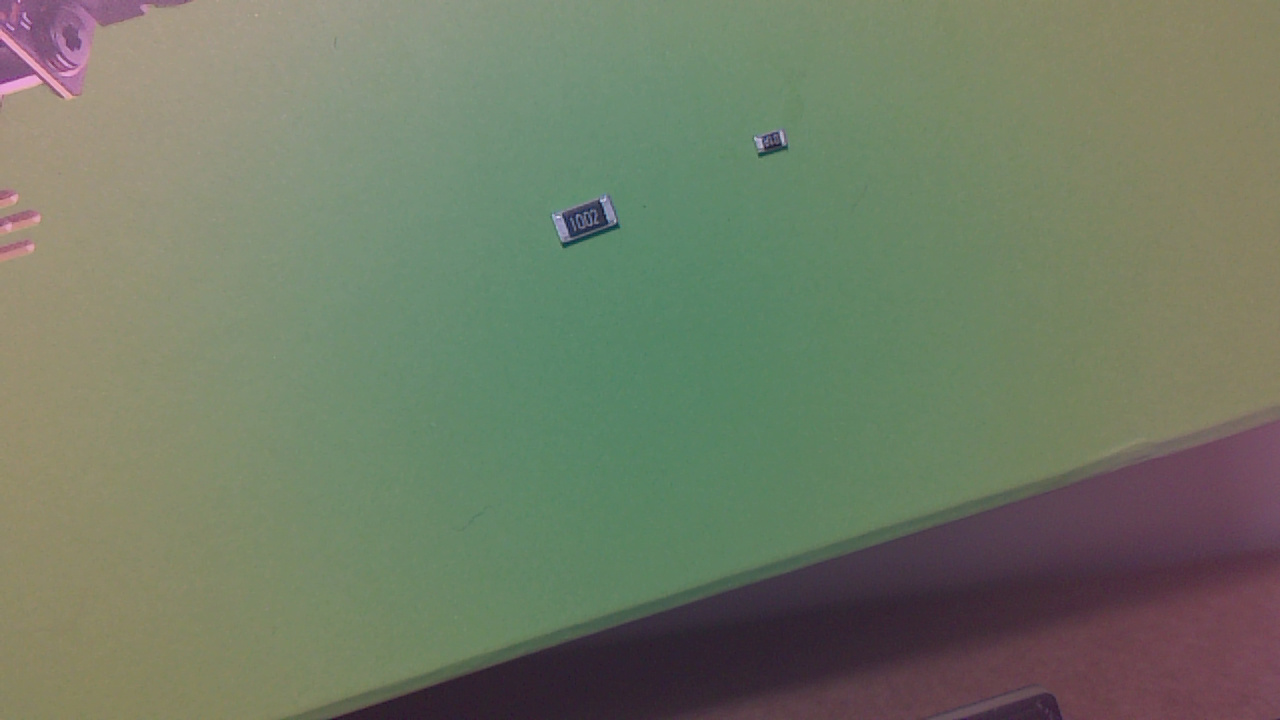Resistor: (555, 198, 625, 253), (756, 129, 792, 163)
